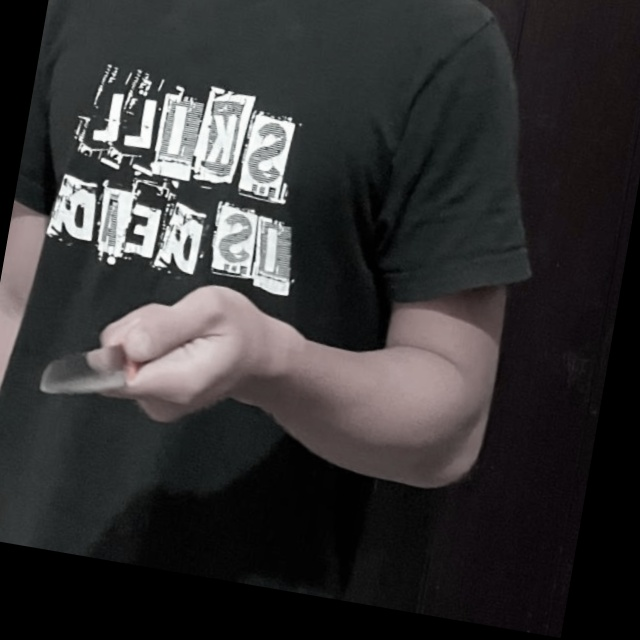Sharp-Object: (33, 325, 163, 416)
